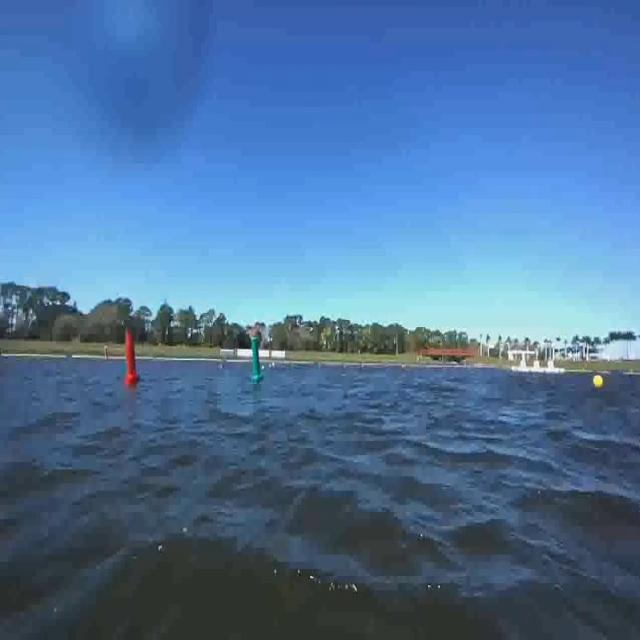green-column-buoy: (245, 328, 273, 376)
red-column-buoy: (115, 328, 144, 388)
